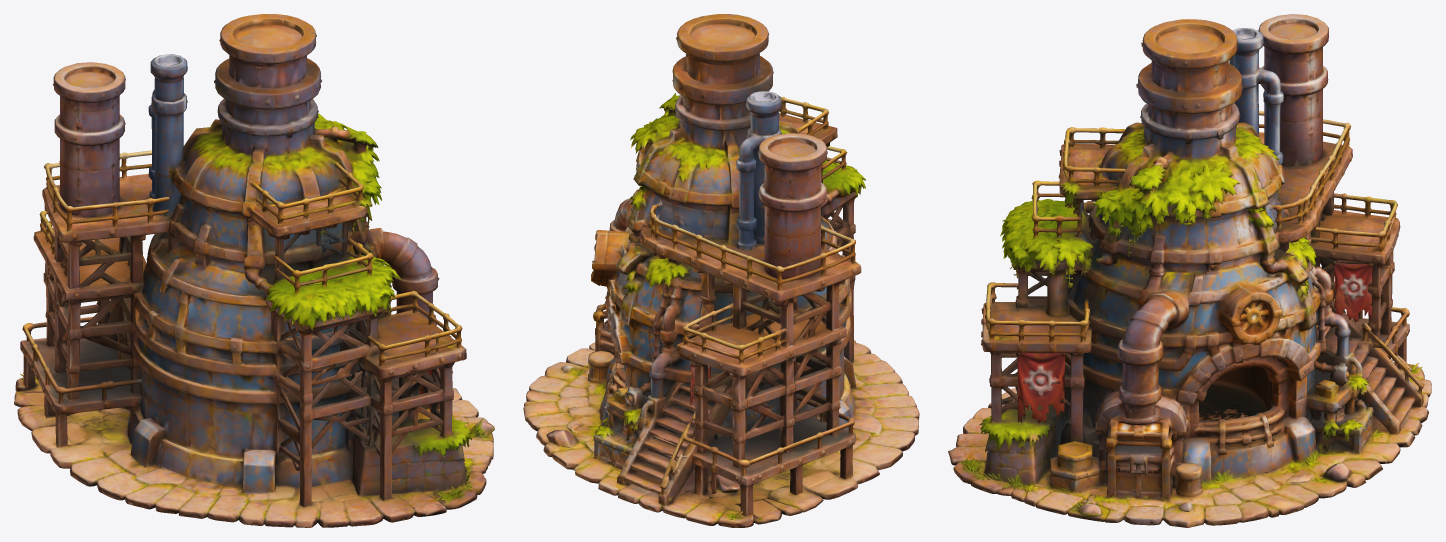
The model's file is Starwish_Junkyard_LM02.glb.
3 renders of one model, left to right at view 1: azimuth 30°, elevation 25°; view 2: azimuth 150°, elevation 25°; view 3: azimuth 270°, elevation 25°, orthographic. The views are drawn at different scales.
Parts seen in each view (by area): view 1: tripo_node_f032922d-3c5d-4c02-8fef-a85b0f4132c5; view 2: tripo_node_f032922d-3c5d-4c02-8fef-a85b0f4132c5; view 3: tripo_node_f032922d-3c5d-4c02-8fef-a85b0f4132c5.
Boxes of the visible parts, left/top/right/bottom form: tripo_node_f032922d-3c5d-4c02-8fef-a85b0f4132c5: left=14, top=14, right=494, bottom=527; tripo_node_f032922d-3c5d-4c02-8fef-a85b0f4132c5: left=523, top=14, right=919, bottom=527; tripo_node_f032922d-3c5d-4c02-8fef-a85b0f4132c5: left=948, top=14, right=1431, bottom=527.
Size of the model in its own units: 0.8648 by 0.8915 by 0.979.
Materials: 1 (1 with a texture image).
